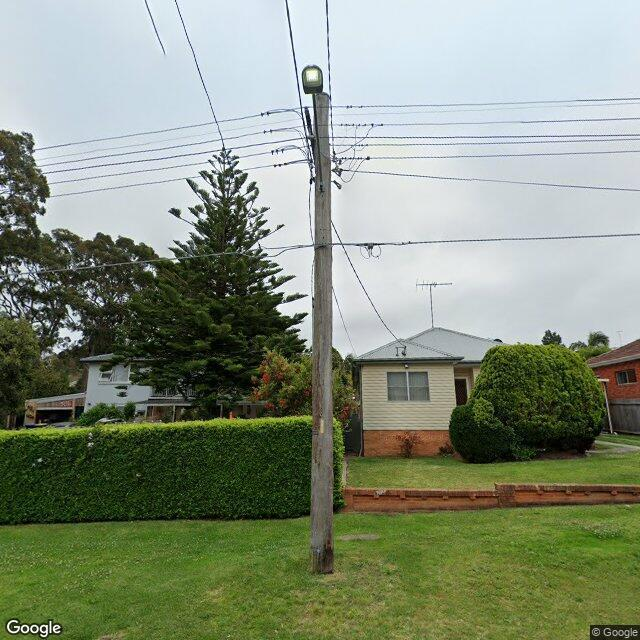crossarm: (304, 108, 314, 155)
streetlight: (302, 64, 324, 194)
timber-pole: (310, 92, 334, 575)
